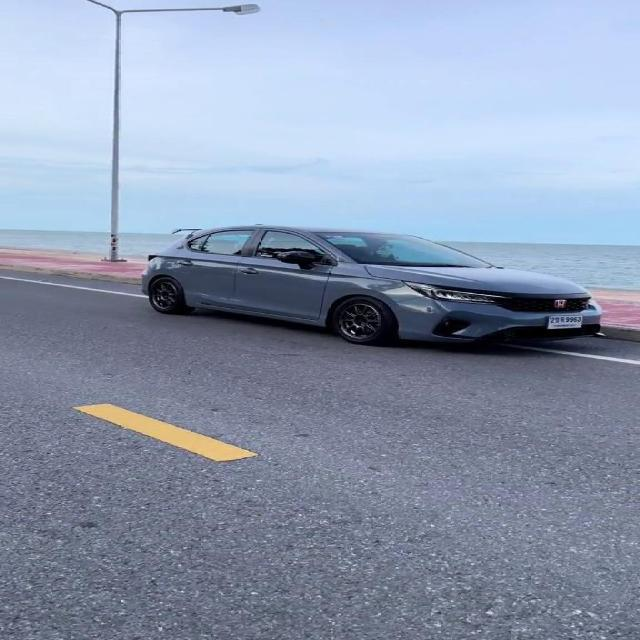Hatchback: (142, 224, 600, 344)
